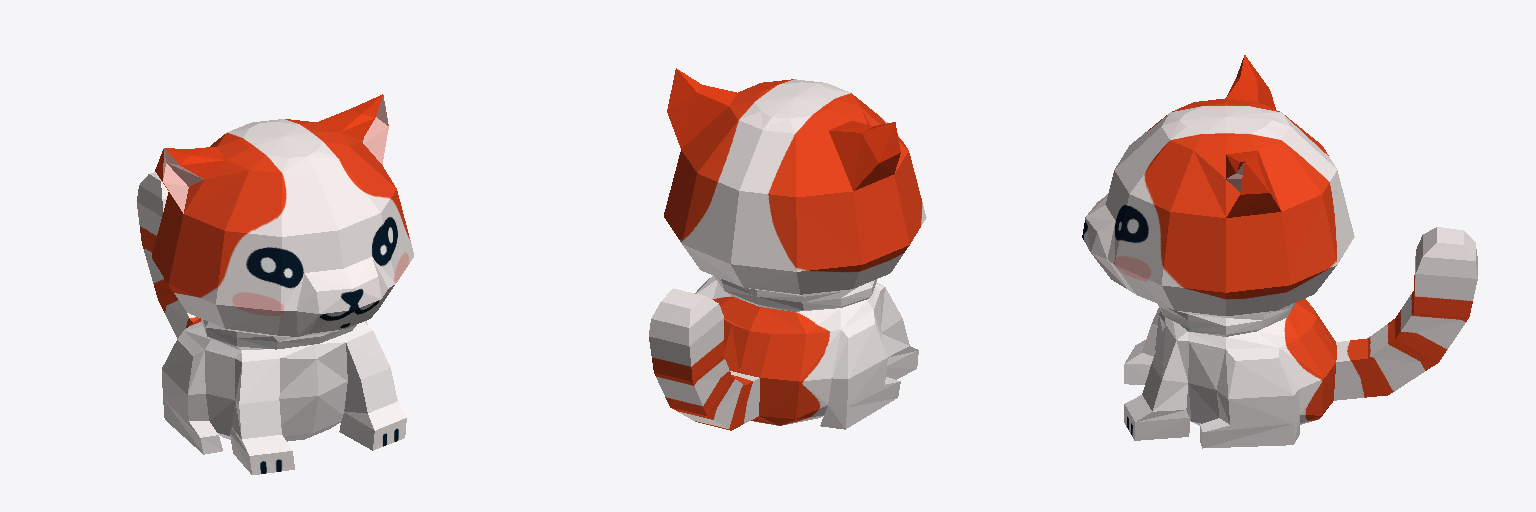
The picture shows the model from 3 angles: view 1: azimuth 30°, elevation 25°; view 2: azimuth 150°, elevation 25°; view 3: azimuth 270°, elevation 25°; orthographic projection.
Visible parts, largest first — view 1: Object_0; view 2: Object_0; view 3: Object_0.
Boxes of the visible parts, x1,y1,x2,y2 form: Object_0: [137, 94, 413, 474]; Object_0: [649, 68, 926, 430]; Object_0: [1082, 55, 1477, 448].
Bounding box in the file's own units: 1.88 × 2.32 × 2.81.
1 materials, 1 textured.